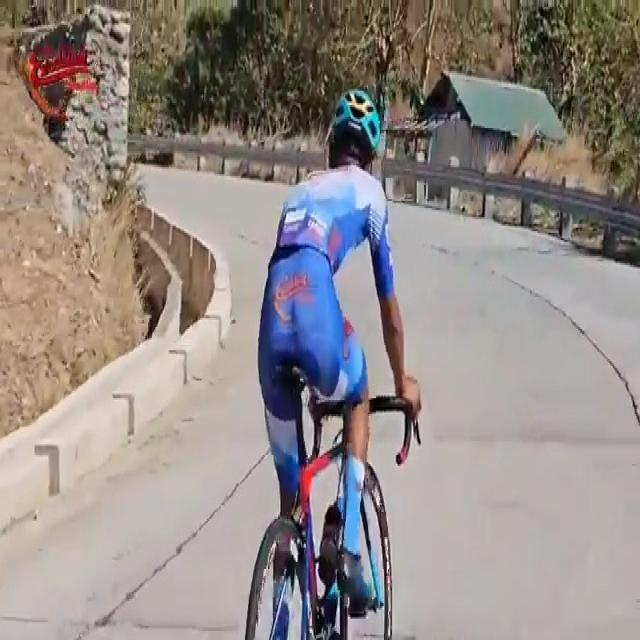bike: (244, 84, 423, 640)
